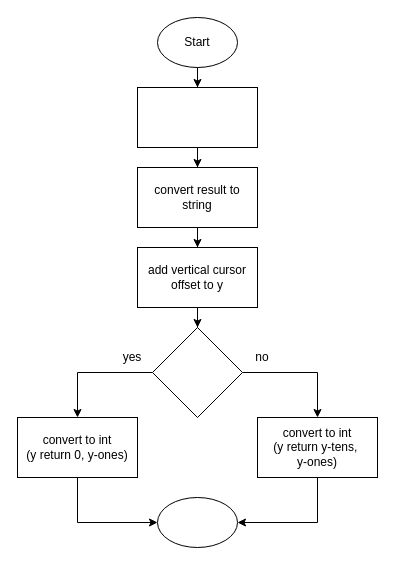
Image size: 395x565. Some labels were removed from this diagram. The centre of each missing label's shape, as x and y in pixels:
add cursor offset to x (x return x-tens, x-ones): (197,117)
result < 10: (197,372)
Stop: (197,522)
